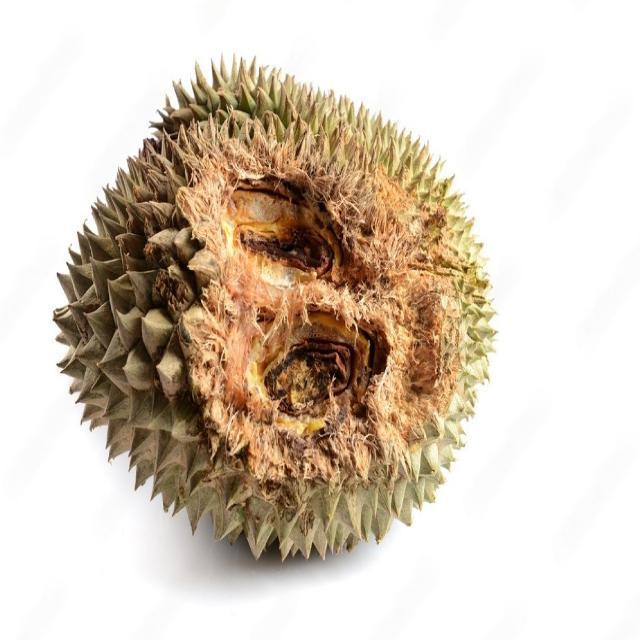defective: (50, 52, 500, 564)
